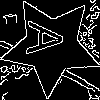A: (26, 21, 74, 58)
